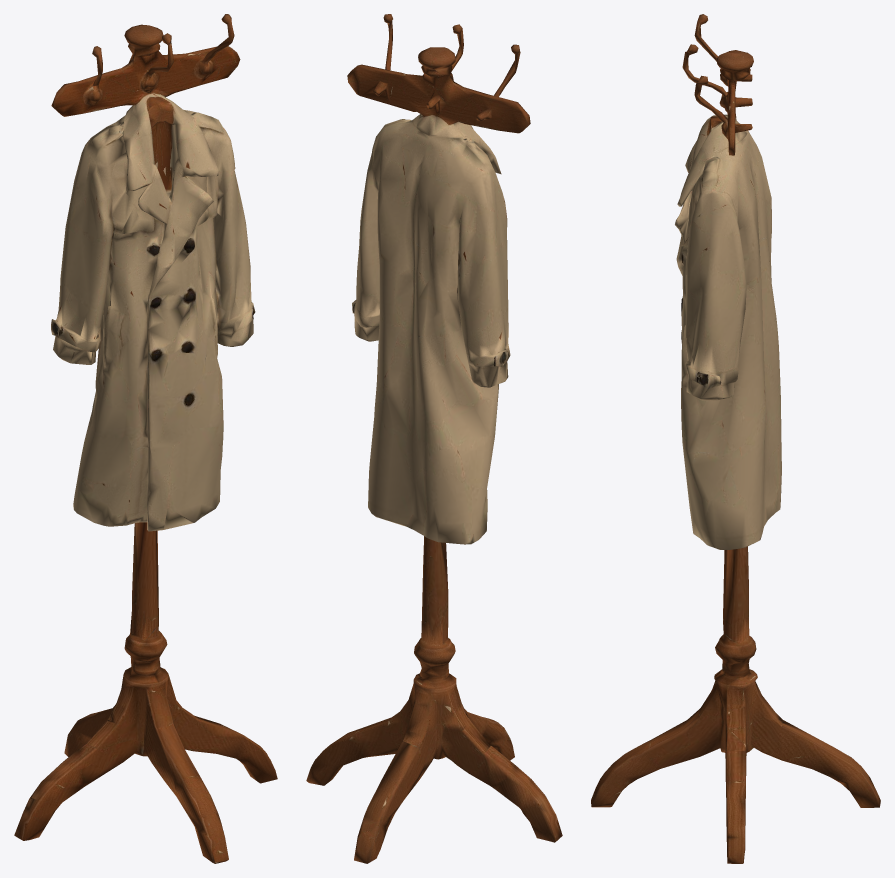
The model's file is coatRack.glb.
The picture shows the model from 3 angles, left to right: view 1: azimuth 30°, elevation 25°; view 2: azimuth 150°, elevation 25°; view 3: azimuth 270°, elevation 25°; orthographic projection. The views are drawn at different scales.
Size of the model in its own units: 0.6458 by 1.9 by 0.6574.
Materials: 1 (1 with a texture image).
